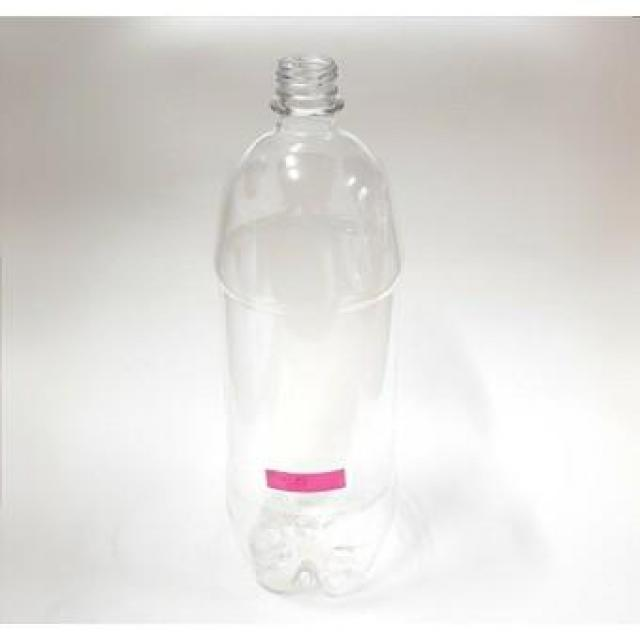bottle: (181, 39, 419, 620)
